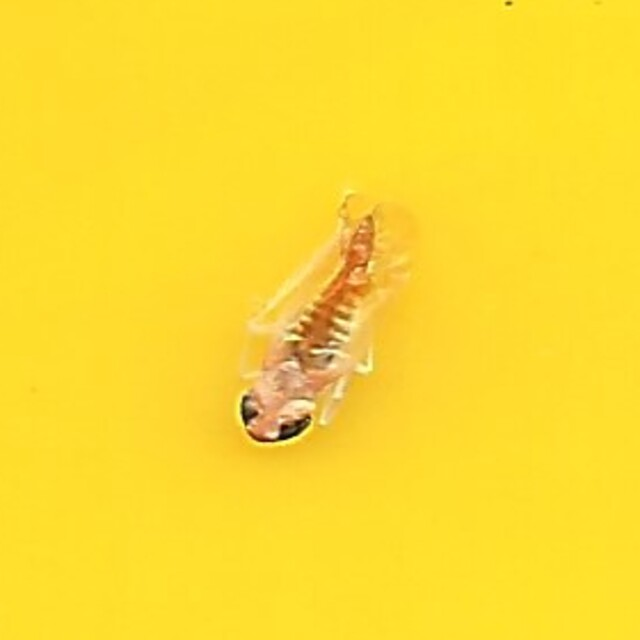Hemiptera: (229, 192, 411, 448)
